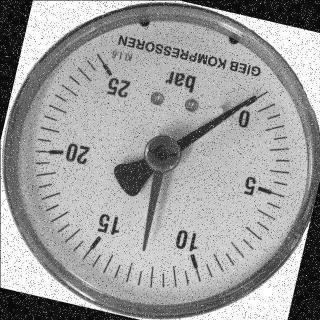gauge: (0, 0, 320, 320), (231, 80, 271, 122), (142, 134, 182, 174), (92, 55, 126, 93), (243, 92, 258, 106), (138, 239, 150, 255)
